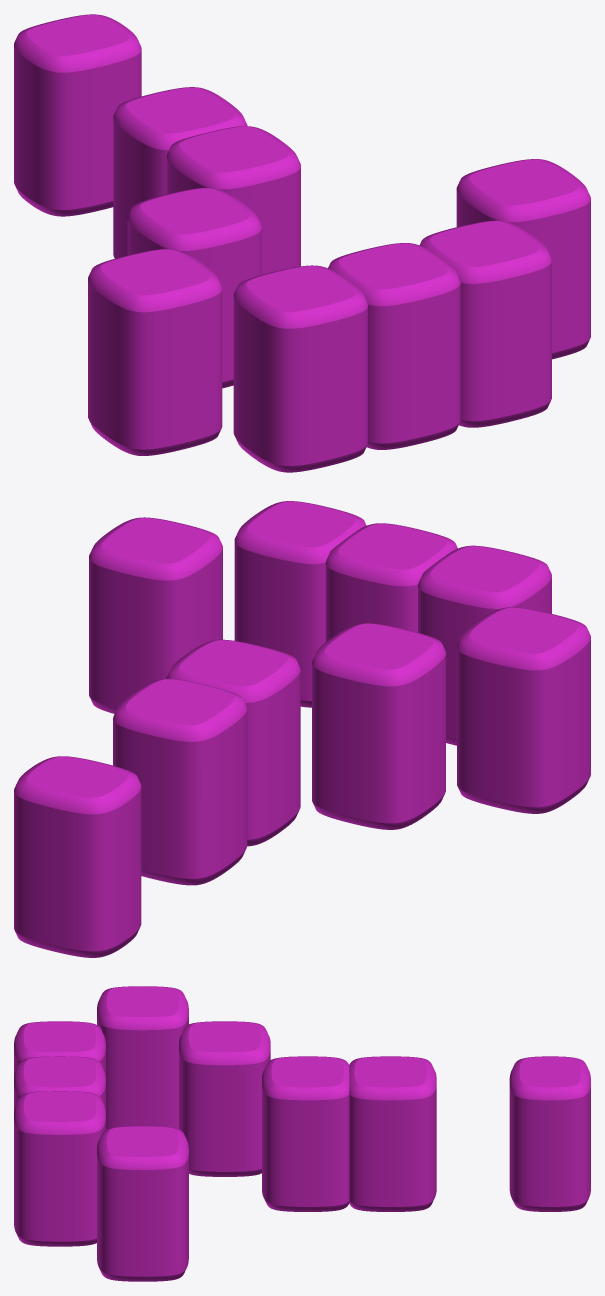
File: QuestionMark.fbx
3 renders of one model, top to bottom at view 1: azimuth 30°, elevation 25°; view 2: azimuth 150°, elevation 25°; view 3: azimuth 270°, elevation 25°, orthographic. The views are drawn at different scales.
Visible parts, largest first — view 1: QuestionMark; view 2: QuestionMark; view 3: QuestionMark.
Part boxes in pixels (bbox=[...]): QuestionMark: bbox=[14, 14, 590, 472]; QuestionMark: bbox=[14, 501, 590, 957]; QuestionMark: bbox=[14, 986, 590, 1281].
Size of the model in its own units: 0.4311 by 0.14 by 0.5883.
